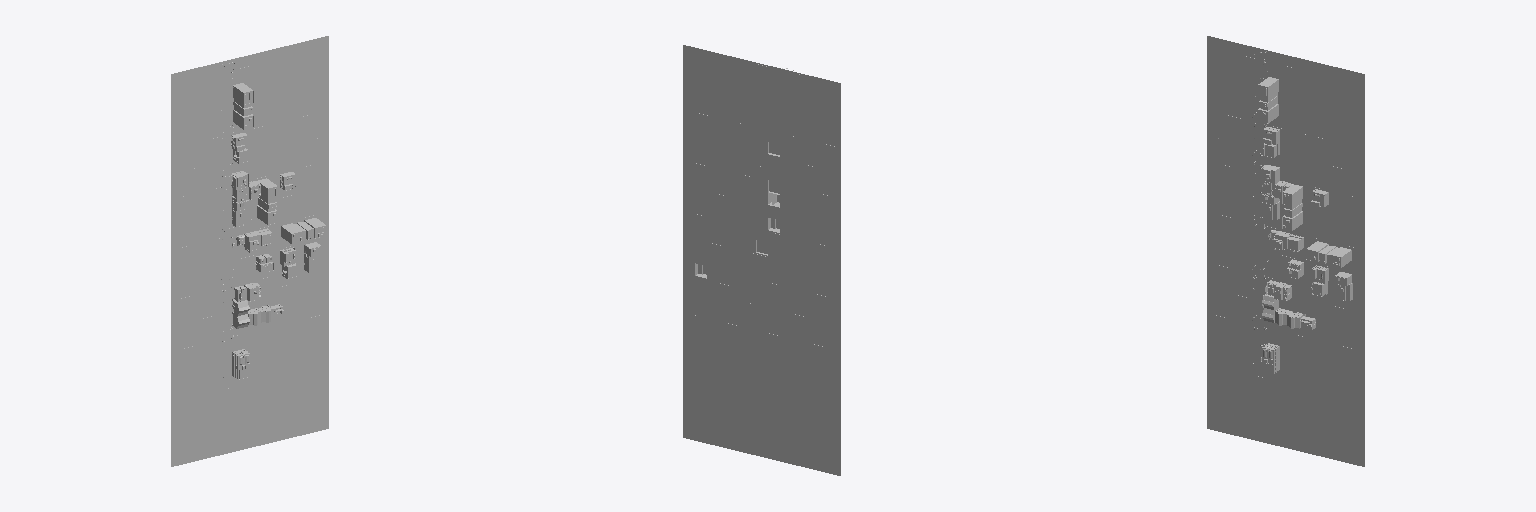
The model's file is ccity.obj.
3 views of the same model, side by side, from view 1: azimuth 30°, elevation 25°; view 2: azimuth 150°, elevation 25°; view 3: azimuth 330°, elevation 25° (orthographic).
Visible parts, largest first — view 1: BD_ConcreteBlock1; view 2: BD_ConcreteBlock1; view 3: BD_ConcreteBlock1.
Part boxes in pixels (left/top/right/bottom): BD_ConcreteBlock1: left=171, top=36, right=328, bottom=466; BD_ConcreteBlock1: left=683, top=45, right=840, bottom=475; BD_ConcreteBlock1: left=1207, top=36, right=1364, bottom=466.
Size of the model in its own units: 234 by 558 by 31.86.